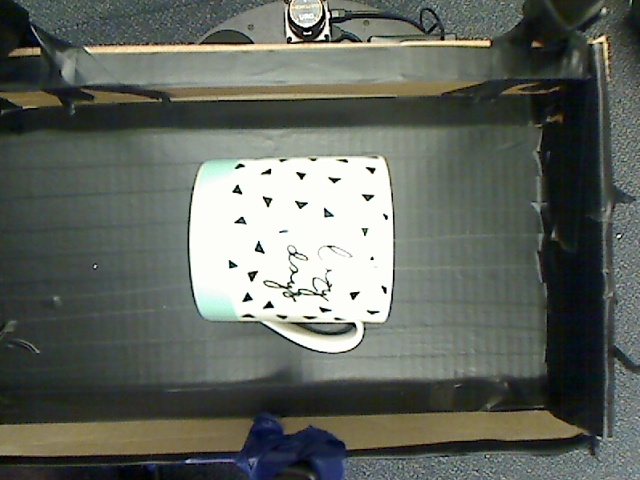mug: (181, 145, 407, 358)
